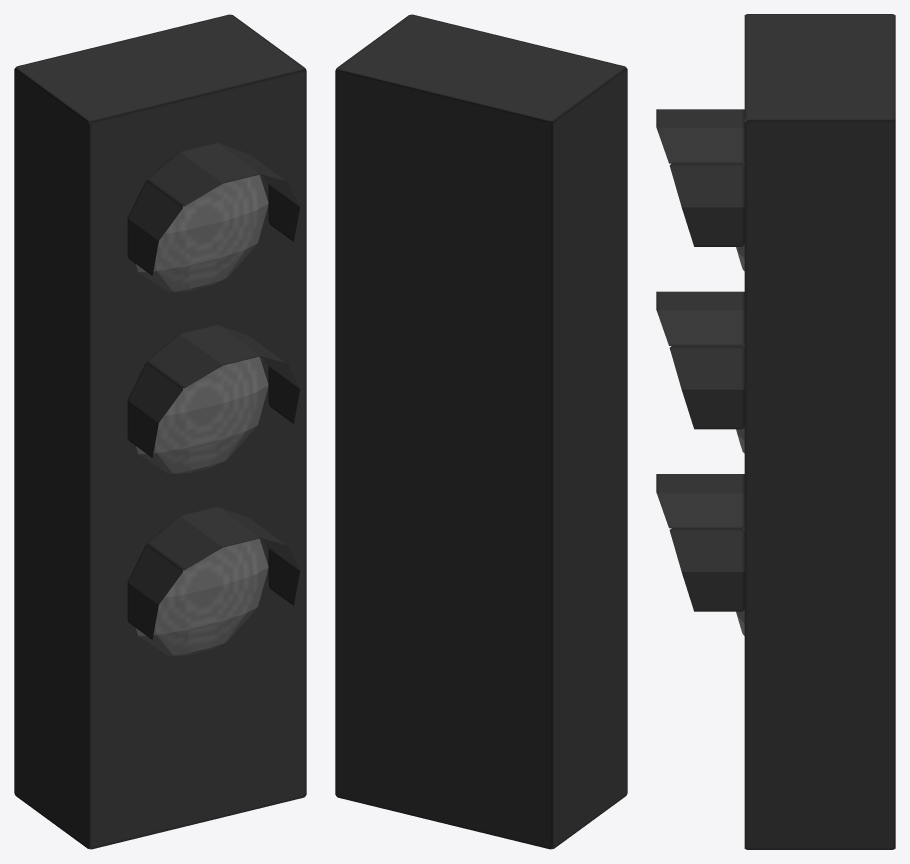
Rendered from dc_metro_signal_light_3w.obj.
3 views of the same model, side by side, from view 1: azimuth 30°, elevation 25°; view 2: azimuth 150°, elevation 25°; view 3: azimuth 270°, elevation 25° (orthographic).
Visible parts, largest first — view 1: box, light, shade; view 2: box; view 3: box, shade, light.
Part boxes in pixels (box(x1,y1,x2,y2)): box: box(14, 14, 306, 849); light: box(136, 174, 268, 655); shade: box(127, 142, 299, 639); box: box(335, 14, 627, 849); box: box(744, 14, 895, 849); shade: box(656, 109, 744, 611); light: box(736, 119, 746, 635).
Size of the model in its own units: 0.3125 by 1 by 0.2969.
Materials: 1 (1 with a texture image).
